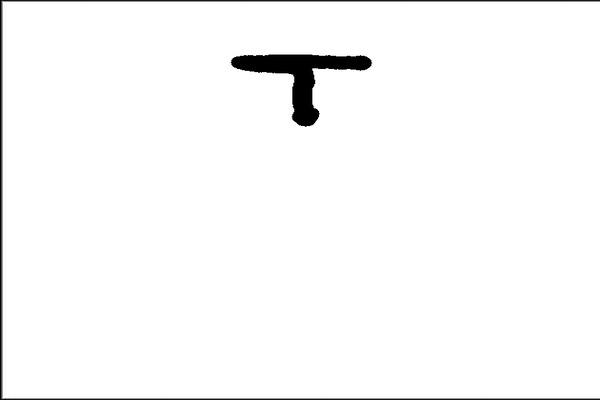T: (225, 48, 380, 131)
